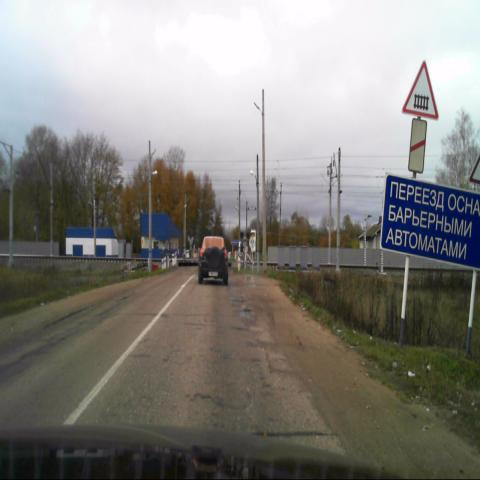1_1: (403, 60, 439, 122)
